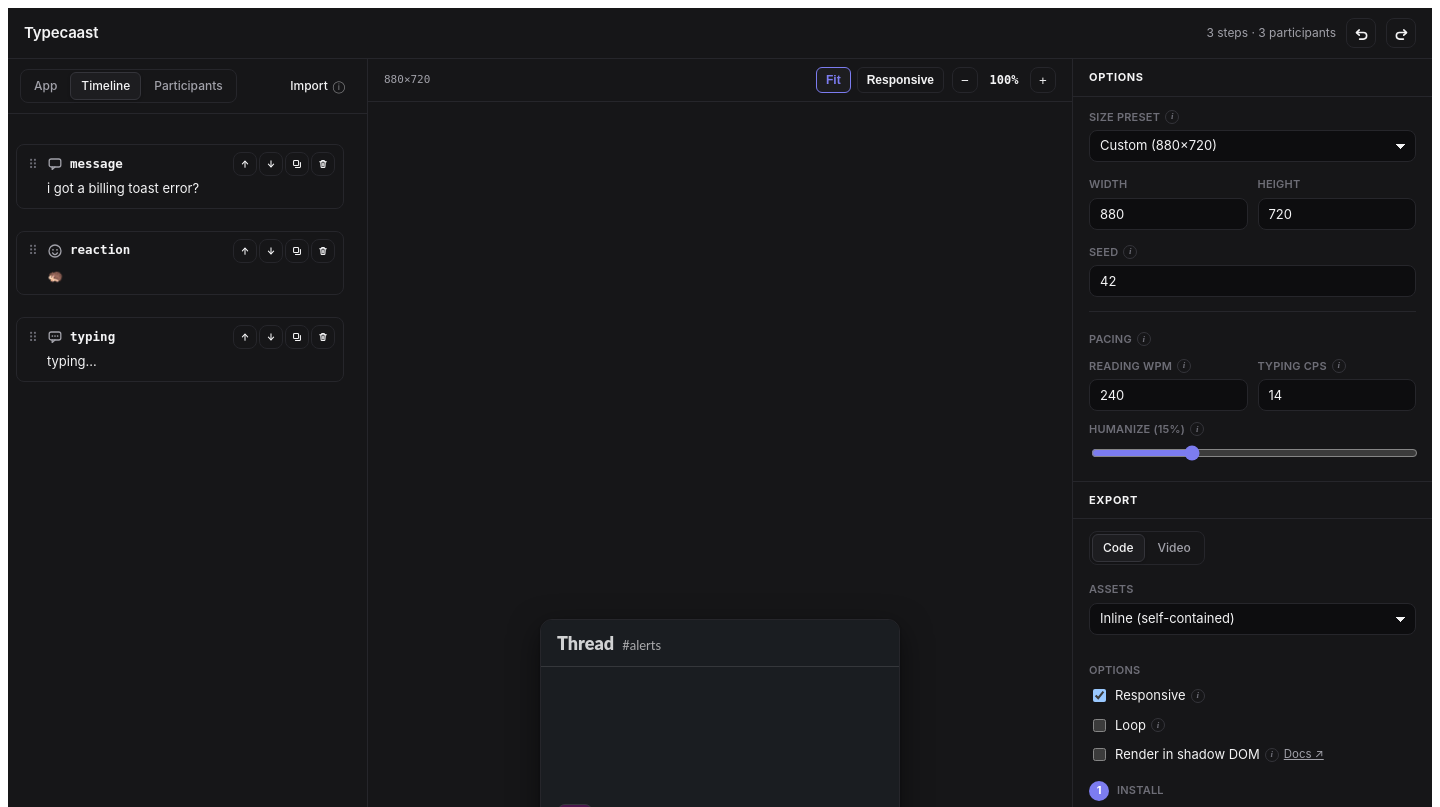
Test: Builder › selecting a step opens the editor
Click the button "message" at (137, 164), box x1=47 y1=155 x2=227 y2=173
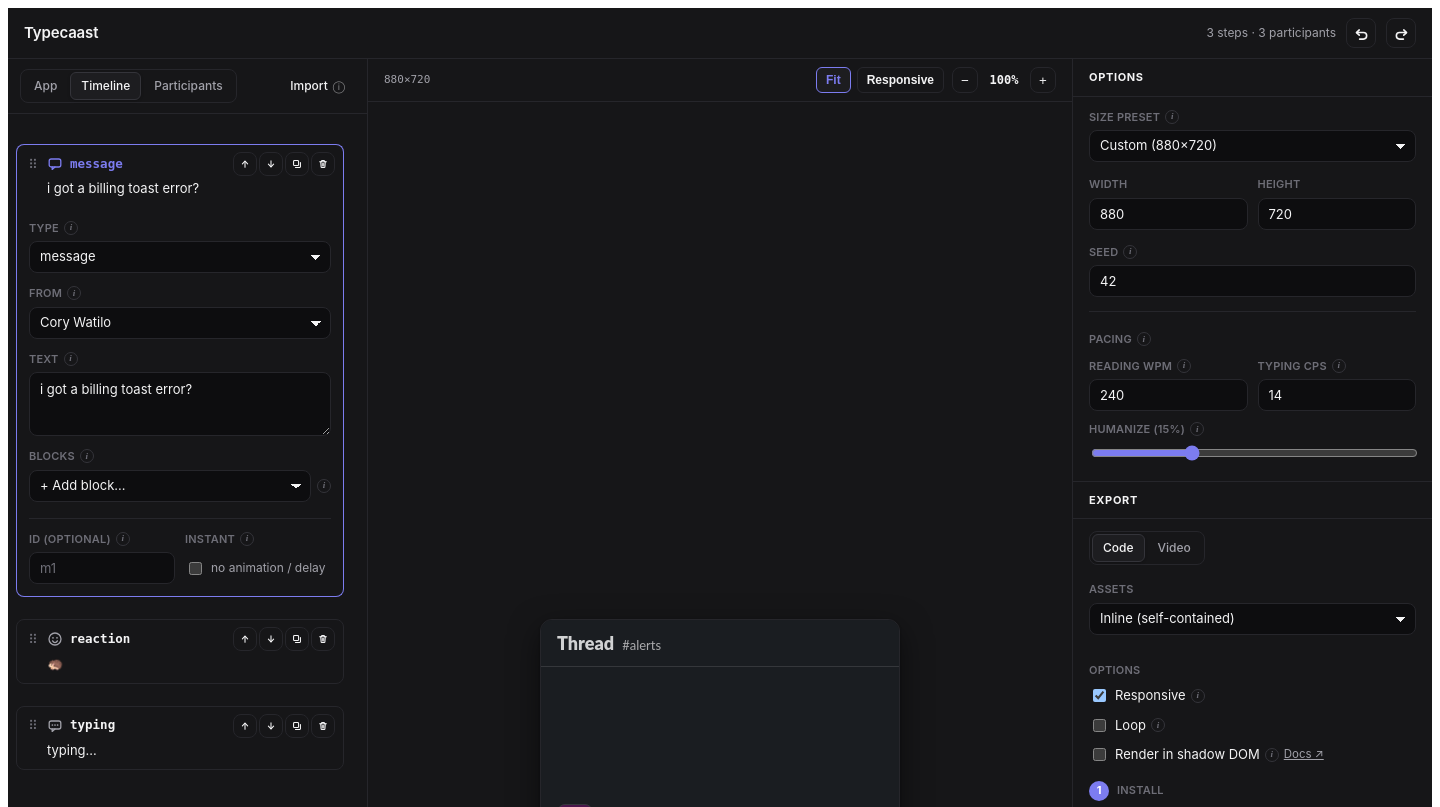
Expected: the text box showing "i got a billing toast error?" is shown, x1=29 y1=372 x2=331 y2=436
